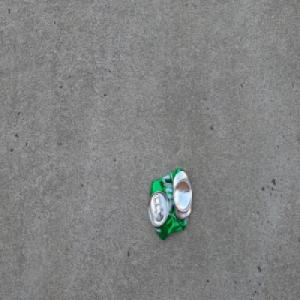SodaCan: (146, 166, 192, 240)
